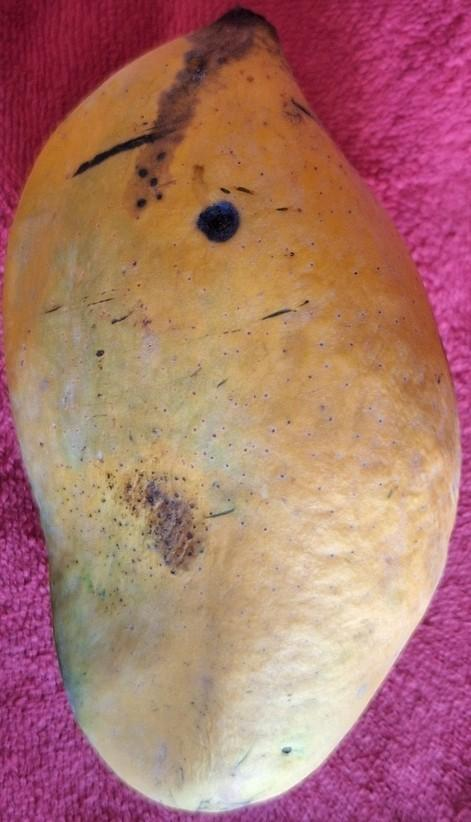mango: (2, 5, 462, 813)
